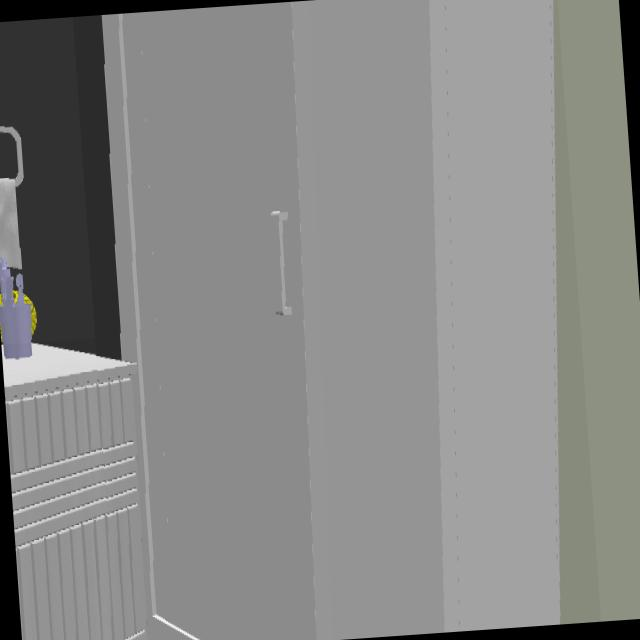cabinet: (1, 344, 152, 640)
shower: (103, 0, 584, 640)
